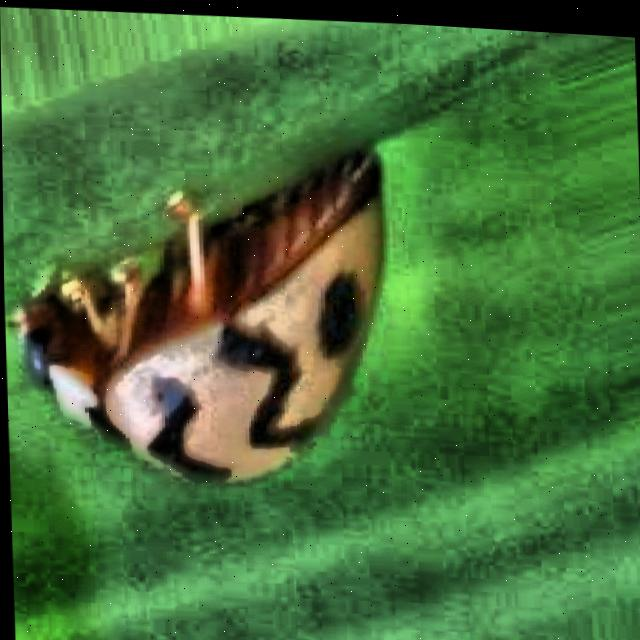Asian-Lady-beetle: (1, 115, 454, 510)
